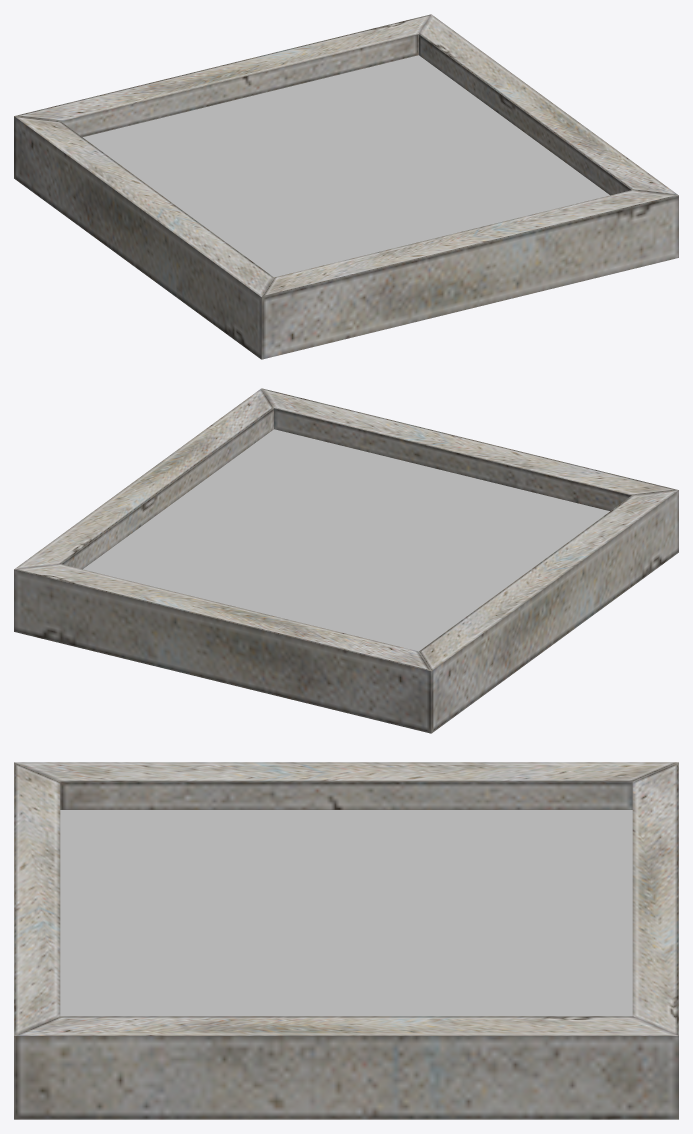
File: SM_SYD_Planter01.fbx
3 views of the same model, one above another, from view 1: azimuth 30°, elevation 25°; view 2: azimuth 150°, elevation 25°; view 3: azimuth 270°, elevation 25° (orthographic). The views are drawn at different scales.
Parts seen in each view (by area): view 1: SM_SYD_Planter01; view 2: SM_SYD_Planter01; view 3: SM_SYD_Planter01.
Boxes of the visible parts, left/top/right/bottom form: SM_SYD_Planter01: left=14, top=14, right=678, bottom=359; SM_SYD_Planter01: left=14, top=388, right=678, bottom=733; SM_SYD_Planter01: left=14, top=762, right=678, bottom=1119.
Bounding box in the file's own units: 525 × 75 × 539.
